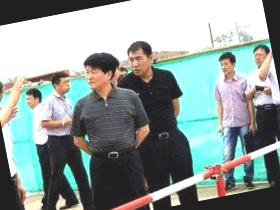no_helmet: (80, 45, 124, 95), (124, 36, 158, 78), (246, 38, 274, 72), (214, 47, 241, 80), (49, 68, 76, 98), (21, 82, 46, 114)
